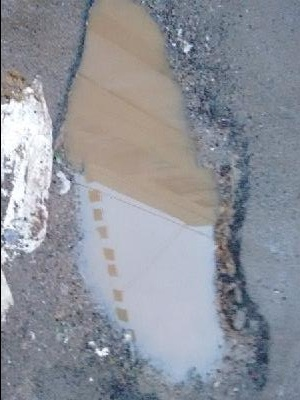pothole: (48, 0, 273, 396)
